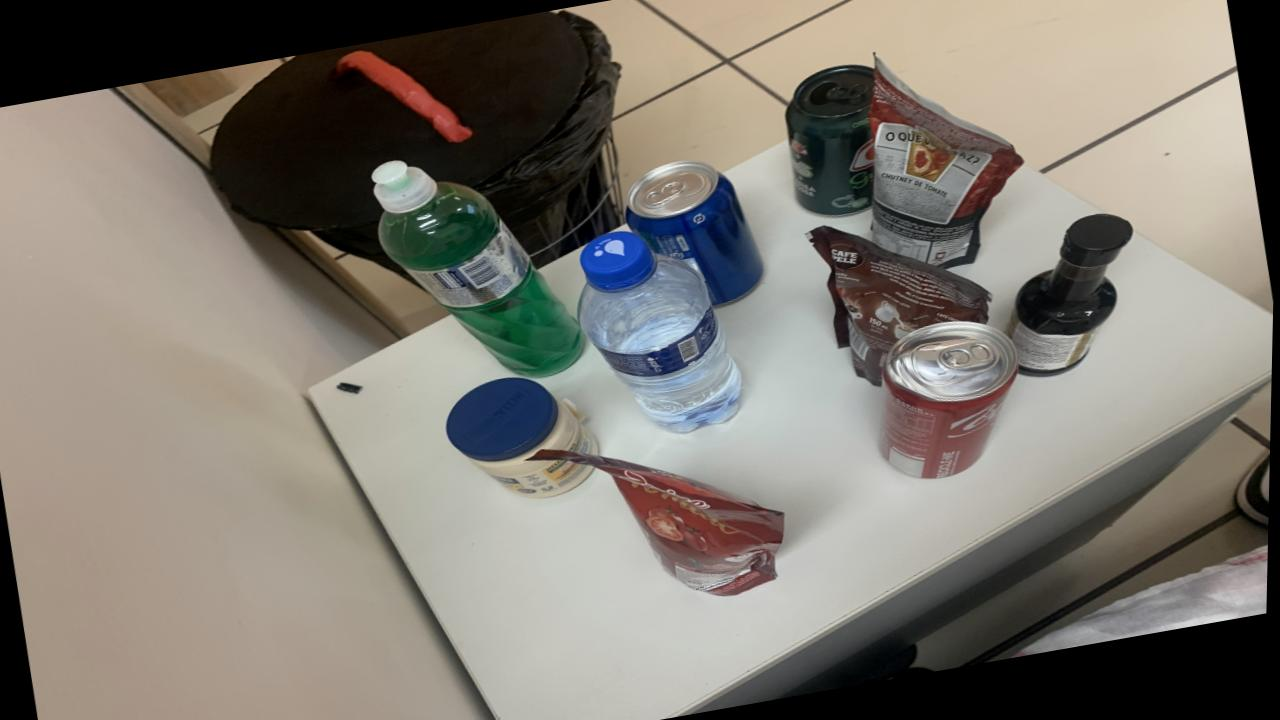Coffee-Pantry_Items: (807, 225, 992, 385)
Coke-Drinks: (881, 320, 1020, 479)
Detergent-Cleanup_Items: (371, 159, 585, 376)
English_Sauce-Pantry_Items: (1012, 213, 1134, 376)
Guarana_Can-Drinks: (785, 64, 876, 216)
Mayonnaise-Pantry_Items: (446, 376, 600, 498)
Tomato_Sauce-Pantry_Items: (533, 449, 787, 596), (868, 55, 1024, 267)
Tonic-Drinks: (626, 160, 764, 305)
Water_Bottle-Drinks: (579, 230, 743, 432)
